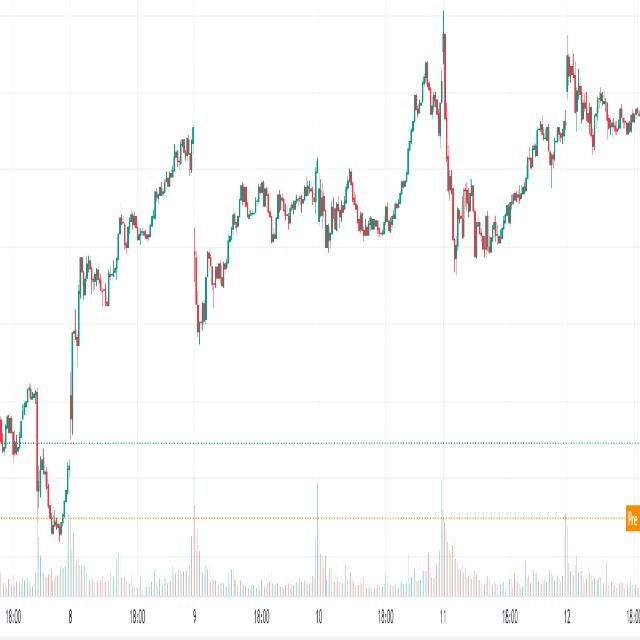Descending-Triangle: (400, 2, 515, 262), (561, 4, 640, 138)
Double-Bottom: (0, 389, 23, 475)
Double-Top: (114, 195, 142, 269), (76, 240, 98, 322)
Head-Shoulders: (404, 50, 442, 188)
Inverse-Head-Shoulders: (442, 140, 470, 282)
Triangle: (201, 72, 451, 297)
rectangle: (216, 143, 405, 284)
